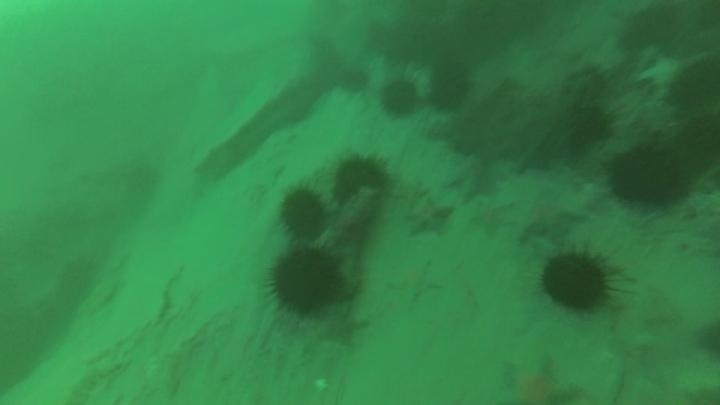echinus: (266, 247, 345, 317), (607, 144, 689, 210), (538, 250, 617, 314), (618, 3, 683, 54), (667, 55, 720, 114), (330, 152, 391, 203), (276, 185, 329, 243), (675, 110, 720, 173), (426, 57, 474, 113), (566, 104, 614, 150), (561, 65, 612, 107), (378, 77, 420, 120), (692, 317, 720, 362), (337, 65, 372, 97)
starfish: (497, 174, 590, 245), (497, 355, 581, 405), (387, 256, 444, 305), (445, 153, 501, 202), (314, 301, 370, 349), (402, 193, 455, 240), (636, 54, 687, 99), (468, 196, 516, 240)
